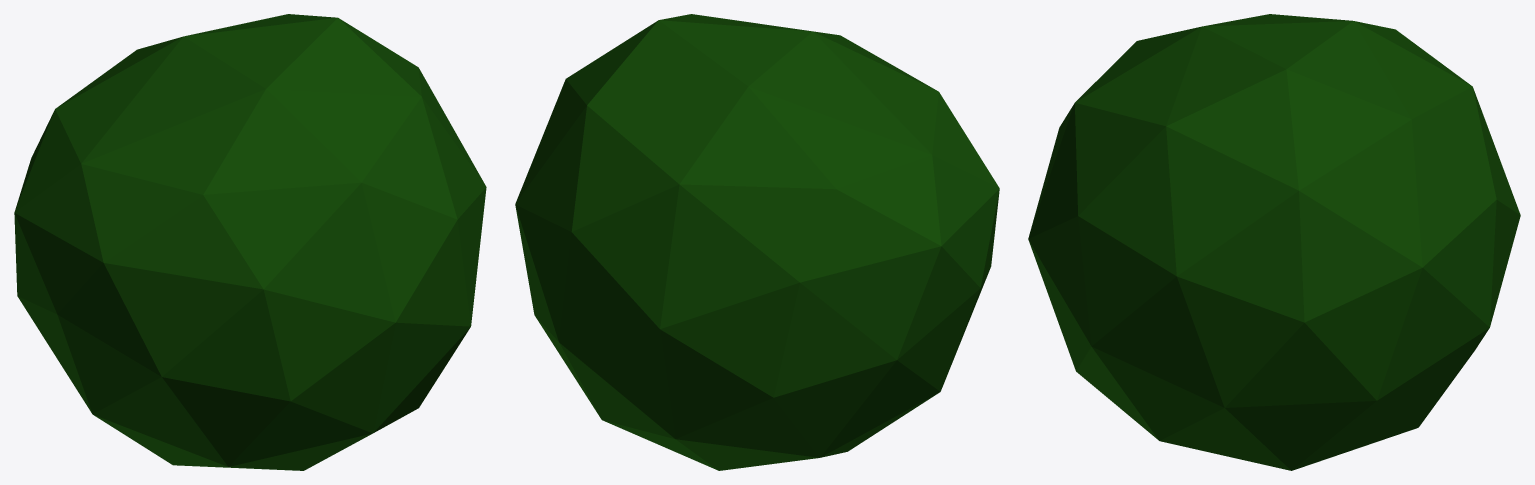
The picture shows the model from 3 angles, left to right: view 1: azimuth 30°, elevation 25°; view 2: azimuth 150°, elevation 25°; view 3: azimuth 270°, elevation 25°; orthographic projection. The views are drawn at different scales.
Parts seen in each view (by area): view 1: Icosphere.016; view 2: Icosphere.016; view 3: Icosphere.016.
Part boxes in pixels (<box>): Icosphere.016: <box>14,14,486,470</box>; Icosphere.016: <box>515,14,999,470</box>; Icosphere.016: <box>1028,14,1520,470</box>.
Bounding box in the file's own units: 1.16 × 1.06 × 1.14.
